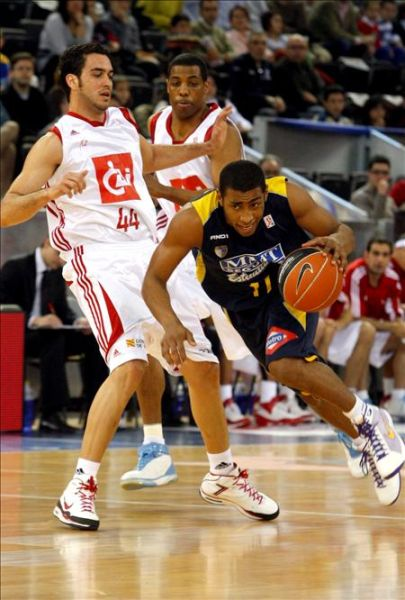basketball: (278, 248, 342, 310)
